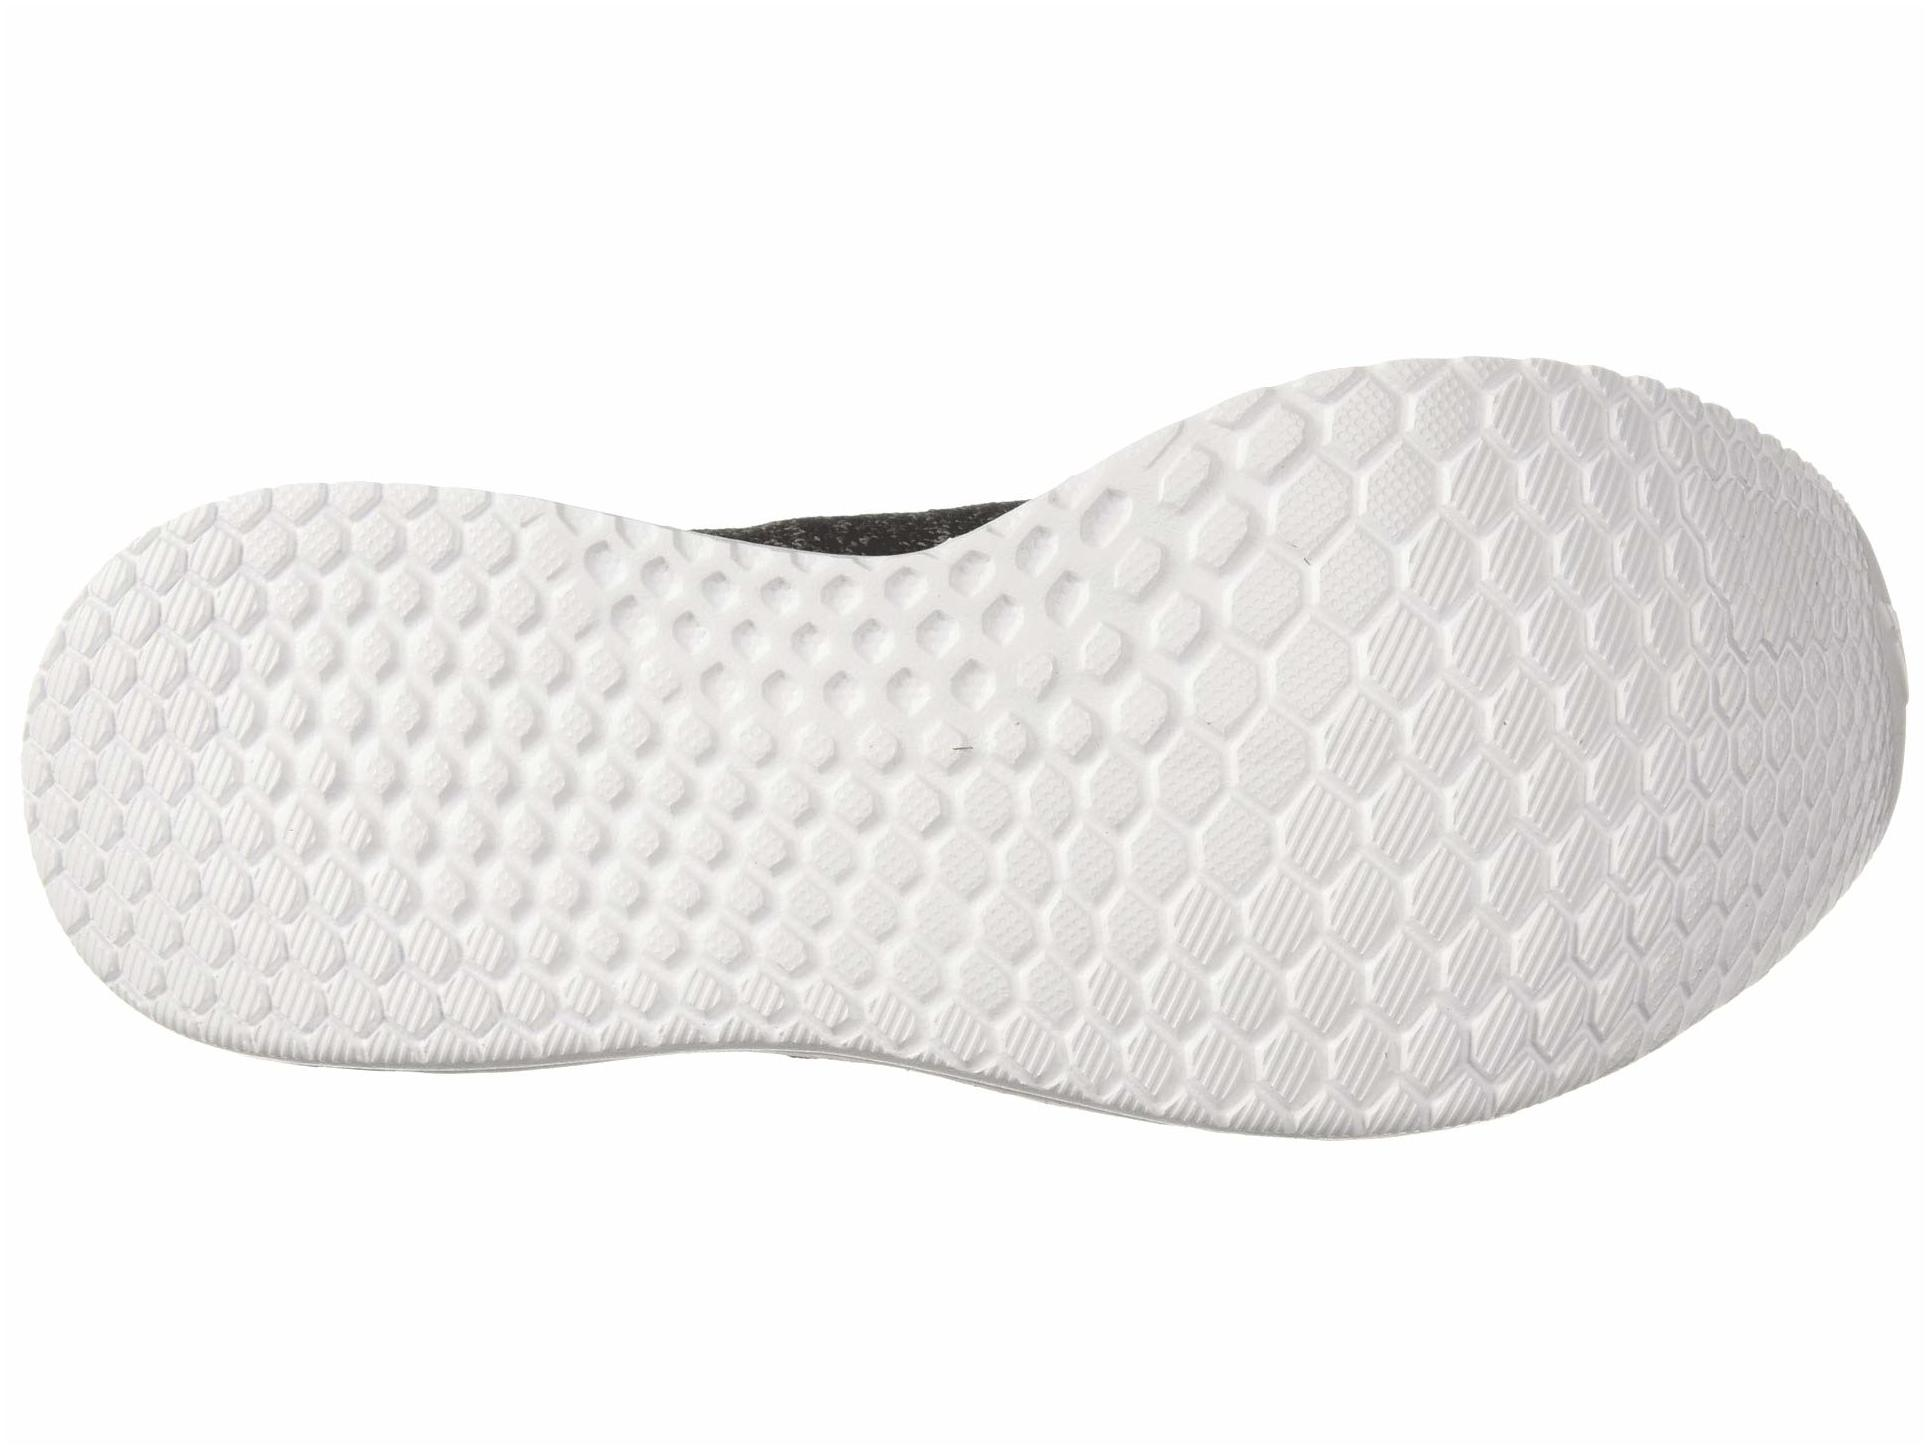line: (1075, 539, 1627, 1016), (50, 643, 477, 1063), (623, 605, 1053, 976)
polygon: (1075, 539, 1627, 1016), (50, 643, 477, 1063), (623, 605, 1053, 976)
quad: (50, 643, 477, 1063), (623, 605, 1053, 976)
